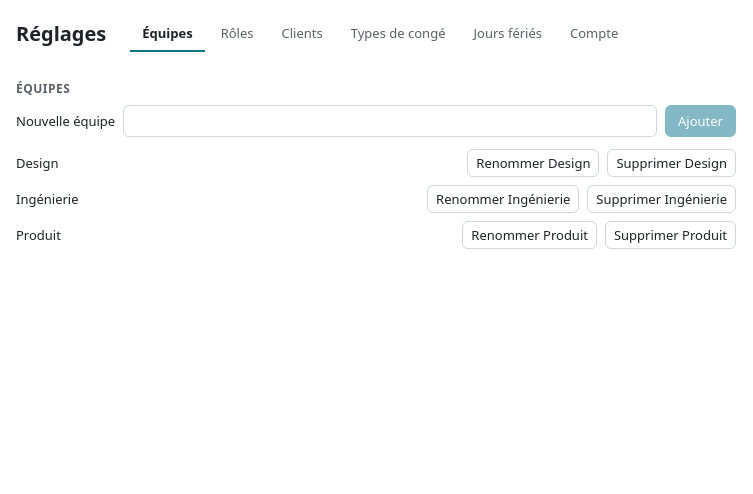
Test: compte › owner ou admin : formulaire prérempli depuis GET /account (fuseau, semaine, langue, seuil), nom en lecture
This screenshot has width=753, height=494.
Click the tab "Compte" at [594, 34], box [558,16,630,52]
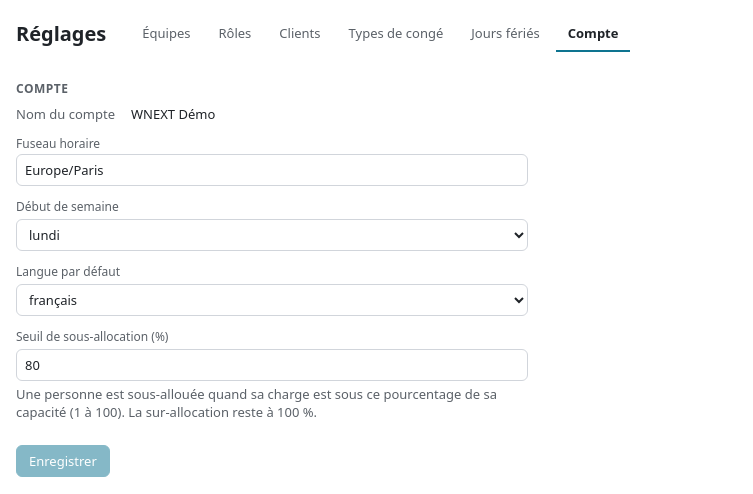
Check: the panel shows "WNEXT Démo", box [131,105,215,123]
Check: the button "Enregistrer" is disabled, box [16,445,110,477]
